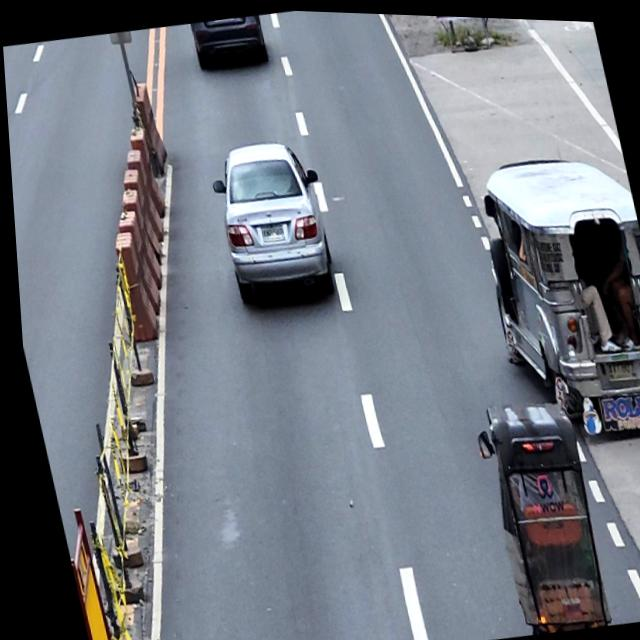Car: (201, 131, 340, 305), (189, 11, 270, 70)
E-bike: (463, 388, 610, 635)
Jeep: (461, 138, 640, 448)
License-Plate: (599, 352, 633, 378), (256, 219, 283, 243)
